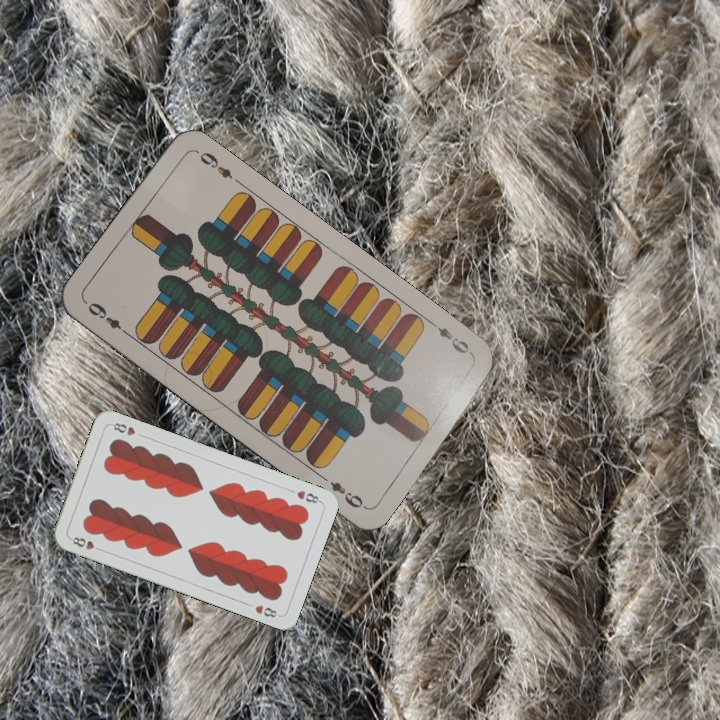E9: (427, 318, 477, 360), (83, 298, 132, 339)
H8: (66, 532, 105, 554), (293, 486, 324, 506)
